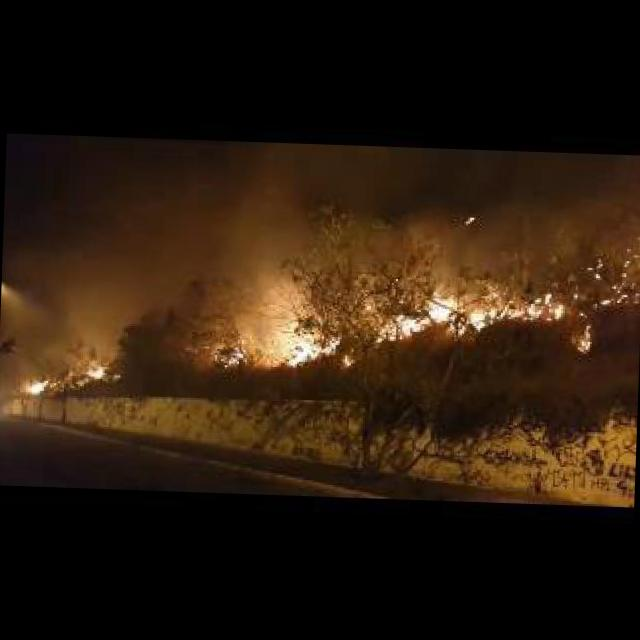Fire: (371, 284, 561, 350), (274, 322, 336, 364), (220, 338, 246, 368), (573, 324, 596, 352), (23, 378, 50, 394), (86, 366, 104, 380)
